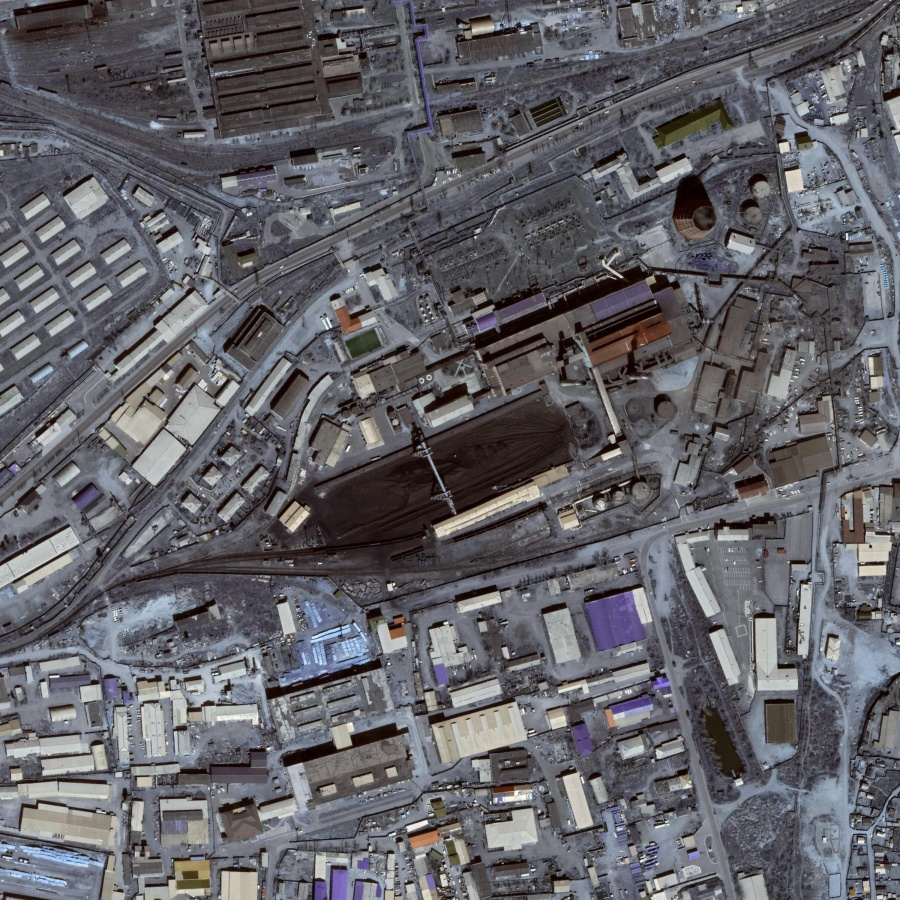PowerPlant: (299, 174, 780, 556)
